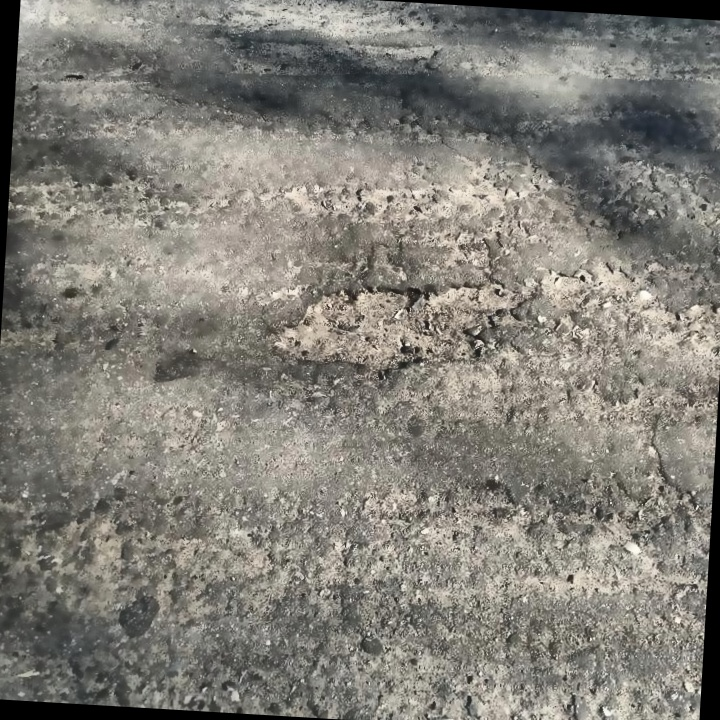pothole: (271, 266, 529, 387)
